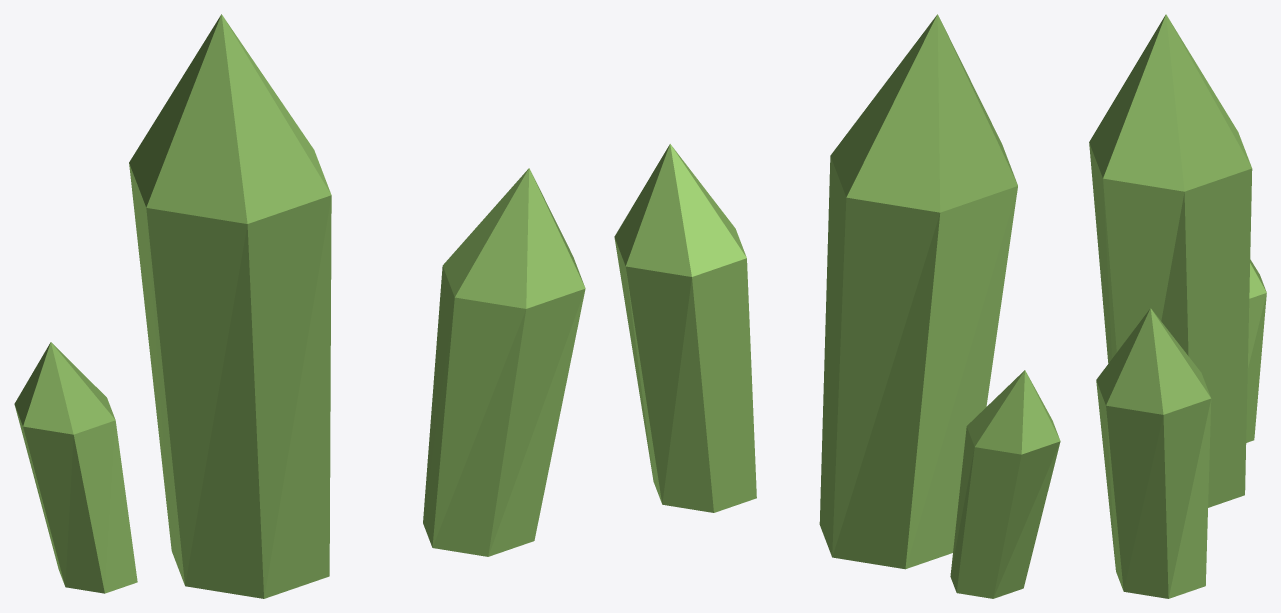
The model's file is crystals_green_cluster.glb.
The picture shows the model from 3 angles, left to right: view 1: azimuth 30°, elevation 25°; view 2: azimuth 150°, elevation 25°; view 3: azimuth 270°, elevation 25°; orthographic projection. The views are drawn at different scales.
Parts seen in each view (by area): view 1: Crystal_main, Crystal_side, Crystal_small; view 2: Crystal_main, Crystal_side, Crystal_small; view 3: Crystal_main, Crystal_side, Crystal_small.
Part boxes in pixels (x1=…): Crystal_main: x1=129, y1=14, x2=331, y2=598; Crystal_side: x1=423, y1=168, x2=585, y2=556; Crystal_small: x1=14, y1=342, x2=137, y2=593; Crystal_main: x1=819, y1=14, x2=1017, y2=569; Crystal_side: x1=614, y1=144, x2=756, y2=512; Crystal_small: x1=950, y1=370, x2=1060, y2=598; Crystal_main: x1=1089, y1=14, x2=1252, y2=507; Crystal_side: x1=1096, y1=308, x2=1211, y2=598; Crystal_small: x1=1246, y1=259, x2=1266, y2=442.
Size of the model in its own units: 0.9344 by 1 by 0.3463.
